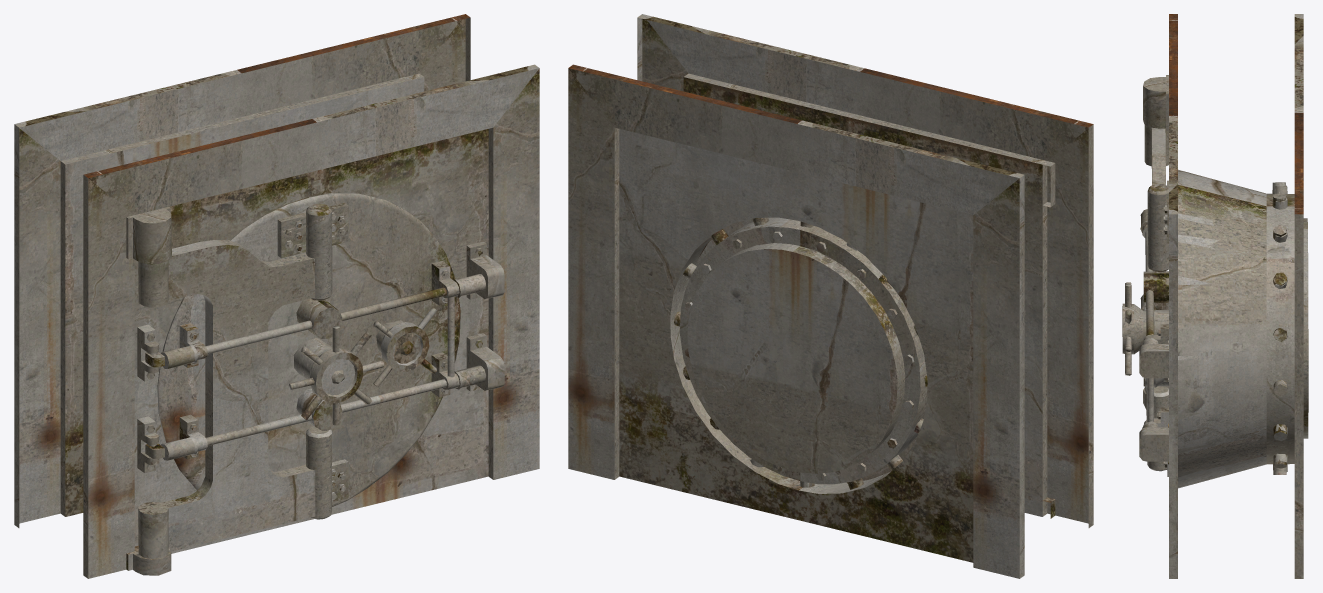
File: untitle11.fbx
3 renders of one model, left to right at view 1: azimuth 30°, elevation 25°; view 2: azimuth 150°, elevation 25°; view 3: azimuth 270°, elevation 25°, orthographic. The views are drawn at different scales.
Parts seen in each view (by area): view 1: SM_Bank_Vault_01c, SM_Bank_Vault_01c.001; view 2: SM_Bank_Vault_01c, SM_Bank_Vault_01c.001; view 3: SM_Bank_Vault_01c, SM_Bank_Vault_01c.001.
Part boxes in pixels (bbox=[...]): SM_Bank_Vault_01c: bbox=[14, 14, 539, 578]; SM_Bank_Vault_01c.001: bbox=[138, 193, 485, 558]; SM_Bank_Vault_01c: bbox=[568, 14, 1093, 578]; SM_Bank_Vault_01c.001: bbox=[674, 217, 927, 489]; SM_Bank_Vault_01c: bbox=[1139, 14, 1303, 578]; SM_Bank_Vault_01c.001: bbox=[1122, 125, 1308, 487].
Bounding box in the file's own units: 12810 × 10865 × 5027.
